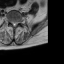CCS_normal: (13, 20, 15, 28)
LFS_stenosis: (17, 19, 19, 25)
LLS_normal: (15, 20, 17, 26)
RFS_normal: (9, 19, 11, 24)
RLS_normal: (11, 21, 13, 26)
